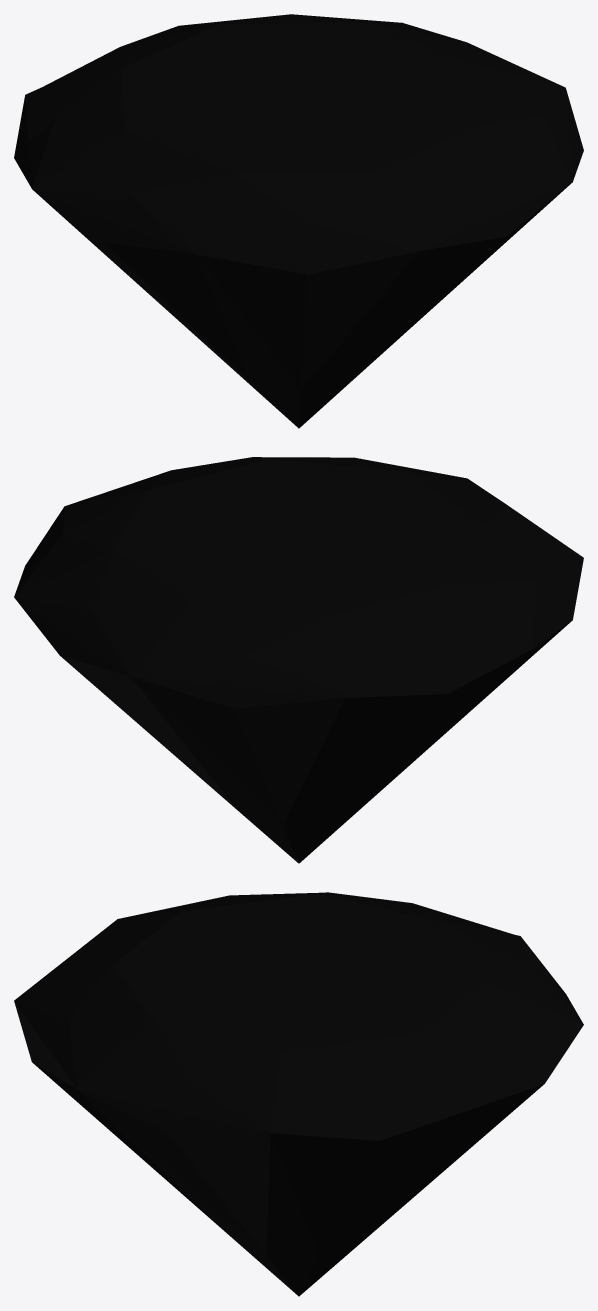
Rendered from diamond.glb.
The picture shows the model from 3 angles, top to bottom: view 1: azimuth 30°, elevation 25°; view 2: azimuth 150°, elevation 25°; view 3: azimuth 270°, elevation 25°; orthographic projection. The views are drawn at different scales.
Parts seen in each view (by area): view 1: node_id3; view 2: node_id3; view 3: node_id3.
Part boxes in pixels (x1,y1,x2,y2): node_id3: (14, 14, 583, 428); node_id3: (14, 457, 583, 863); node_id3: (14, 892, 583, 1296).
Bounding box in the file's own units: 0.5271 × 0.3308 × 0.5271.
1 material, 1 textured.
